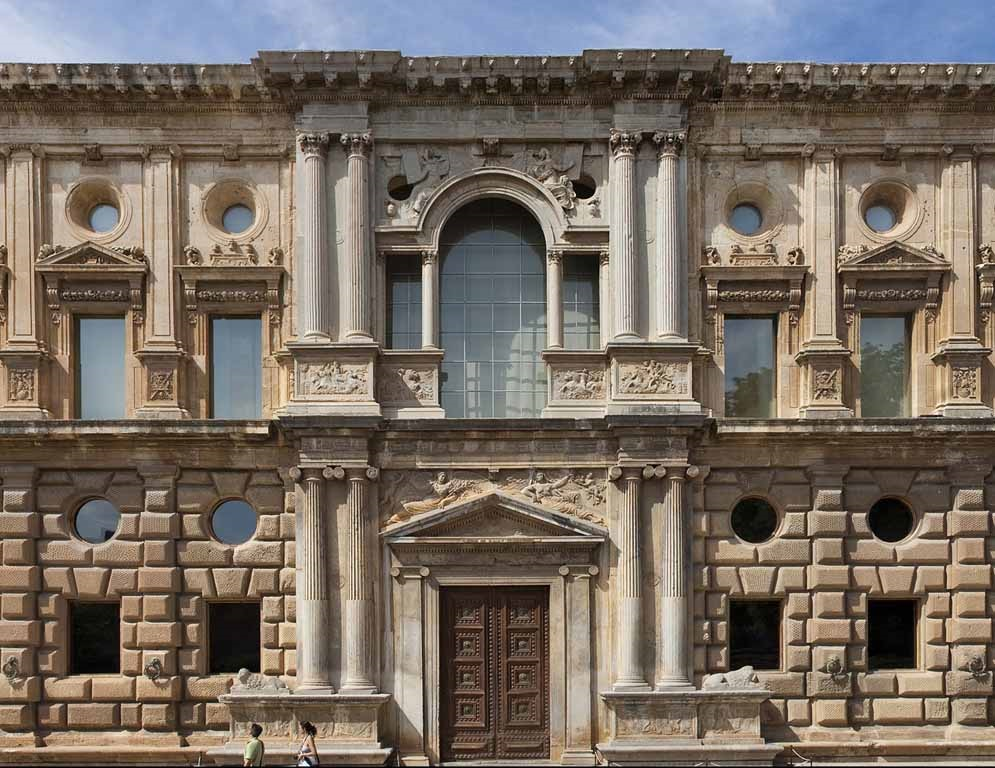fronton: (377, 492, 612, 551), (30, 240, 151, 279), (835, 238, 954, 277)
ojo-de-buey: (63, 174, 134, 237), (857, 175, 924, 241), (201, 176, 266, 235), (201, 491, 262, 551), (724, 178, 781, 240), (728, 488, 785, 548), (67, 489, 123, 549), (864, 492, 919, 546)
serliana: (373, 163, 611, 359)
vano-adintelado: (422, 560, 564, 768), (715, 303, 788, 421), (62, 301, 131, 423), (203, 304, 271, 421), (852, 301, 917, 420)
